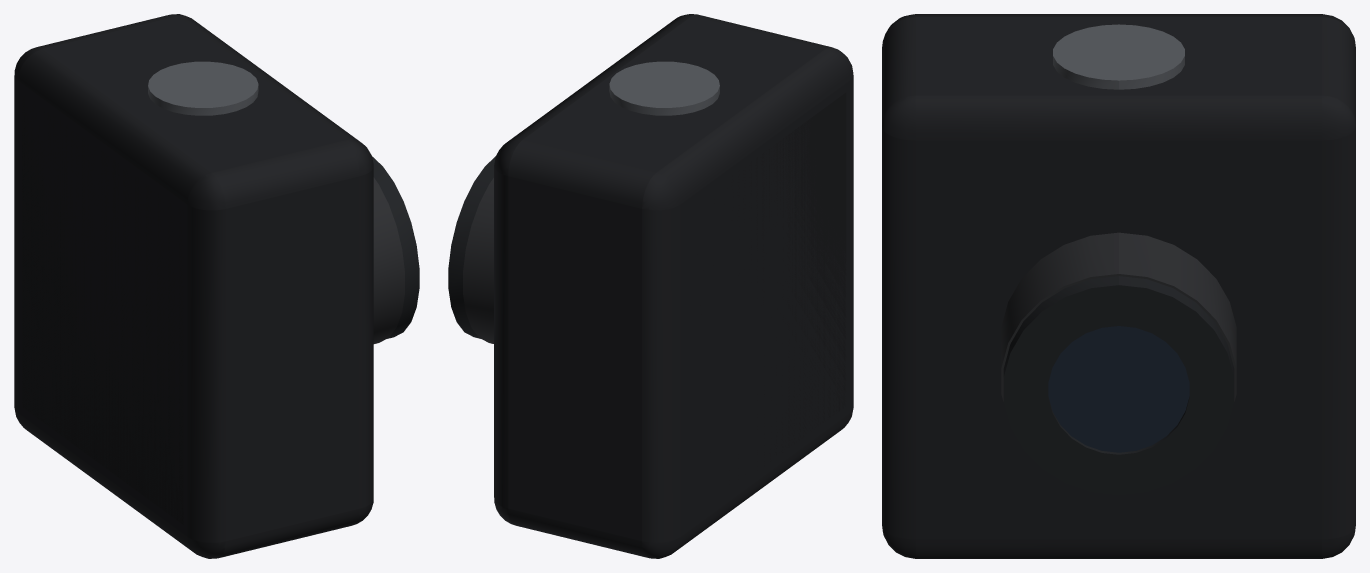
The model's file is betafpv-c03.glb.
The picture shows the model from 3 angles, left to right: view 1: azimuth 30°, elevation 25°; view 2: azimuth 150°, elevation 25°; view 3: azimuth 270°, elevation 25°; orthographic projection. The views are drawn at different scales.
Parts seen in each view (by area): view 1: body, rear_board, mount_tab_right, lens_barrel, lens_ring; view 2: body, rear_board, mount_tab_right, lens_barrel, lens_ring; view 3: body, lens_ring, lens_glass, lens_barrel, mount_tab_right.
Boxes of the visible parts, x1=… form: body: x1=14, y1=14, x2=373, y2=558; rear_board: x1=22, y1=97, x2=183, y2=524; mount_tab_right: x1=148, y1=61, x2=258, y2=115; lens_barrel: x1=373, y1=177, x2=404, y2=343; lens_ring: x1=372, y1=156, x2=419, y2=338; body: x1=494, y1=14, x2=853, y2=558; rear_board: x1=697, y1=92, x2=846, y2=484; mount_tab_right: x1=609, y1=61, x2=719, y2=115; lens_barrel: x1=463, y1=178, x2=493, y2=343; lens_ring: x1=448, y1=156, x2=495, y2=338; body: x1=882, y1=14, x2=1355, y2=558; lens_ring: x1=1003, y1=276, x2=1234, y2=495; lens_glass: x1=1048, y1=326, x2=1189, y2=452; lens_barrel: x1=1001, y1=232, x2=1236, y2=401; mount_tab_right: x1=1053, y1=24, x2=1184, y2=89.
Size of the model in its own units: 11 by 15.3 by 14.
